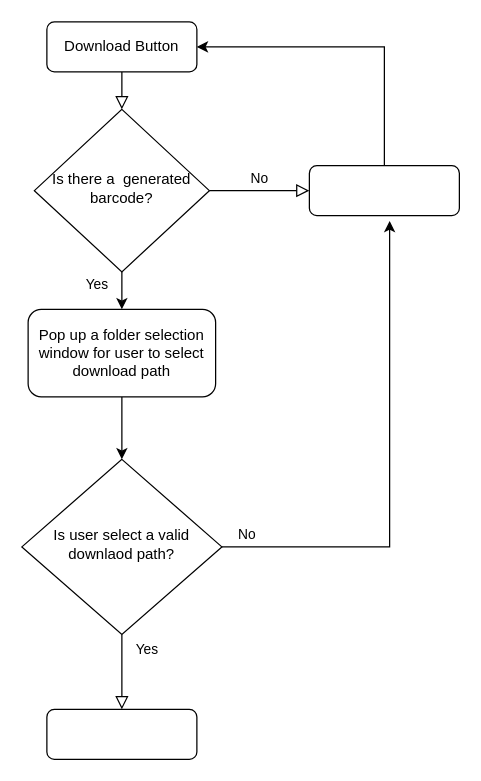
The diagram is 481 pixels wide and 781 high, and some of its shapes have lost their labels. The box of each missing label's shape, as (x1, y1, x2, y2) in pixels:
Error Message: (308, 164, 459, 216)
Starting Download: (46, 708, 197, 759)
